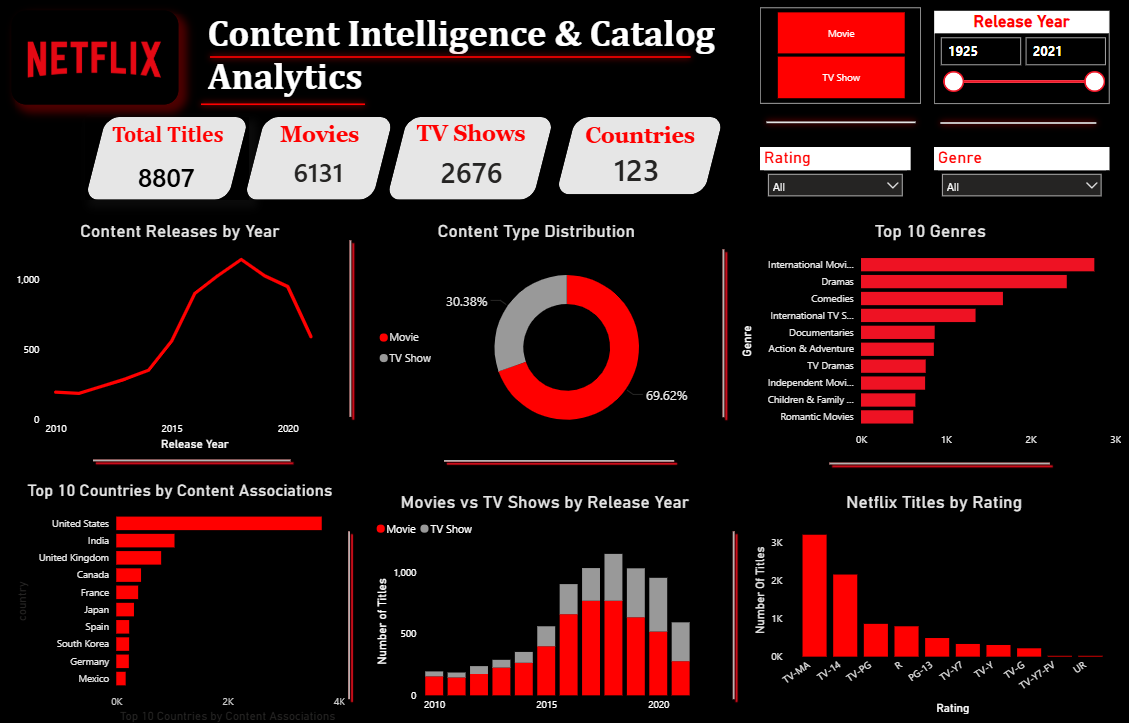

The dashboard page shown, as its layout file describes it:
{"tool":"powerbi","page":{"name":"Page 2","canvas":[1400,900],"ordinal":1},"visuals":[{"type":"donutChart","title":"Content Type Distribution","fields":{"Category":[" Netflix.type"],"Y":["CountNonNull( Netflix.show_id)"]},"box":[464,272,400,288],"z":0},{"type":"lineChart","title":"Content Releases by Year ","fields":{"Category":[" Netflix.release_year"],"Y":["CountNonNull( Netflix.show_id)"]},"box":[16,272,416,288],"z":1000},{"type":"clusteredBarChart","title":"Top 10 Countries by Content Associations","fields":{"Y":["CountNonNull(Country.country)"],"Category":["Country.country"]},"box":[16,592,416,304],"z":2000},{"type":"clusteredColumnChart","title":"Netflix Titles by Rating","fields":{"Category":[" Netflix.rating"],"Y":["CountNonNull( Netflix.show_id)"]},"box":[928.1,607,456.1,278.9],"z":3000},{"type":"columnChart","title":"Movies vs TV Shows by Release Year","fields":{"Category":[" Netflix.release_year"],"Y":["CountNonNull( Netflix.show_id)"],"Series":[" Netflix.type"]},"box":[461.4,607,428.1,280.7],"z":4000},{"type":"clusteredBarChart","title":"Top 10 Genres","fields":{"Category":["Genre.Genre"],"Y":["CountNonNull(Genre.Genre)"]},"box":[912,272,480,288],"z":5000},{"type":"image","box":[17.1,12.9,205.7,115.7],"z":6000},{"type":"textbox","title":"Content Intelligence & Catalog Analytics","box":[253.7,13,661.1,113],"z":7000},{"type":"shape","box":[106.7,144.4,202.2,102.2],"z":8000},{"type":"cardVisual","fields":{"Data":[" Netflix.Total Titles"]},"box":[153.3,195.6,108.9,40],"z":9000},{"type":"shape","box":[304.4,144.4,184.4,102.2],"z":10000},{"type":"shape","box":[480,144.4,206.7,102.2],"z":11000},{"type":"shape","box":[688.9,144.4,206.7,95.6],"z":12000},{"type":"cardVisual","fields":{"Data":[" Netflix.Movies"]},"box":[331.1,186.7,128.9,48.9],"z":13000},{"type":"cardVisual","fields":{"Data":[" Netflix.TV Shows"]},"box":[526.7,188.9,117.8,44.4],"z":14000},{"type":"cardVisual","fields":{"Data":[" Netflix.Total Country"]},"box":[730,185,118.3,45],"z":15000},{"type":"slicer","title":"Release Year","fields":{"Values":[" Netflix.release_year"]},"box":[1155.4,13.8,216.9,115.4],"z":16000},{"type":"slicer","title":"Rating","fields":{"Values":[" Netflix.rating"]},"box":[940,181.5,186.2,73.8],"z":17000},{"type":"slicer","title":"Genre","fields":{"Values":["Genre.Genre"]},"box":[1155.4,181.5,216.9,64.6],"z":18000},{"type":"shape","box":[253.7,55.6,609.3,29.6],"z":19000},{"type":"shape","box":[940,135,200,31.7],"z":20000},{"type":"shape","box":[1155,135,208.3,33.3],"z":21000},{"type":"shape","box":[242.6,113,218.5,31.5],"z":22000},{"type":"shape","box":[112,544,256,48],"z":23000},{"type":"shape","box":[415.8,291.2,36.8,229.8],"z":24000},{"type":"shape","box":[884.2,301.8,24.6,219.3],"z":25000},{"type":"shape","box":[421.1,650.9,26.3,219.3],"z":26000},{"type":"shape","box":[889.5,650.9,38.6,219.3],"z":27000},{"type":"shape","box":[543.9,542.1,296.5,52.6],"z":28000},{"type":"shape","box":[1021.1,556.1,284.2,33.3],"z":29000},{"type":"slicer","fields":{"Values":[" Netflix.type"]},"box":[940,10,198.3,118.3],"z":30000}]}

Visuals, with their boxes in screenshot pixels (x1, y1, x2, y2), scaled from the page's 1400x900 canvas onto the 1129x723 screenshot:
"Content Type Distribution" donutChart: x1=374, y1=219, x2=697, y2=450
"Content Releases by Year " lineChart: x1=13, y1=219, x2=348, y2=450
"Top 10 Countries by Content Associations" clusteredBarChart: x1=13, y1=476, x2=348, y2=720
"Netflix Titles by Rating" clusteredColumnChart: x1=748, y1=488, x2=1116, y2=712
"Movies vs TV Shows by Release Year" columnChart: x1=372, y1=488, x2=717, y2=713
"Top 10 Genres" clusteredBarChart: x1=735, y1=219, x2=1123, y2=450
image: x1=14, y1=10, x2=180, y2=103
"Content Intelligence & Catalog Analytics" textbox: x1=205, y1=10, x2=738, y2=101
shape: x1=86, y1=116, x2=249, y2=198
cardVisual -  Netflix.Total Titles: x1=124, y1=157, x2=211, y2=189
shape: x1=245, y1=116, x2=394, y2=198
shape: x1=387, y1=116, x2=554, y2=198
shape: x1=556, y1=116, x2=722, y2=193
cardVisual -  Netflix.Movies: x1=267, y1=150, x2=371, y2=189
cardVisual -  Netflix.TV Shows: x1=425, y1=152, x2=520, y2=187
cardVisual -  Netflix.Total Country: x1=589, y1=149, x2=684, y2=185
"Release Year" slicer: x1=932, y1=11, x2=1107, y2=104
"Rating" slicer: x1=758, y1=146, x2=908, y2=205
"Genre" slicer: x1=932, y1=146, x2=1107, y2=198
shape: x1=205, y1=45, x2=696, y2=68
shape: x1=758, y1=108, x2=919, y2=134
shape: x1=931, y1=108, x2=1099, y2=135
shape: x1=196, y1=91, x2=372, y2=116
shape: x1=90, y1=437, x2=297, y2=476
shape: x1=335, y1=234, x2=365, y2=419
shape: x1=713, y1=242, x2=733, y2=419
shape: x1=340, y1=523, x2=361, y2=699
shape: x1=717, y1=523, x2=748, y2=699
shape: x1=439, y1=435, x2=678, y2=478
shape: x1=823, y1=447, x2=1053, y2=473
slicer -  Netflix.type: x1=758, y1=8, x2=918, y2=103
